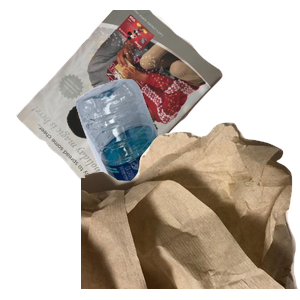glass: (85, 141, 275, 300)
paper: (14, 10, 229, 190)
plastic: (73, 76, 300, 256)
trash: (81, 120, 300, 300)
